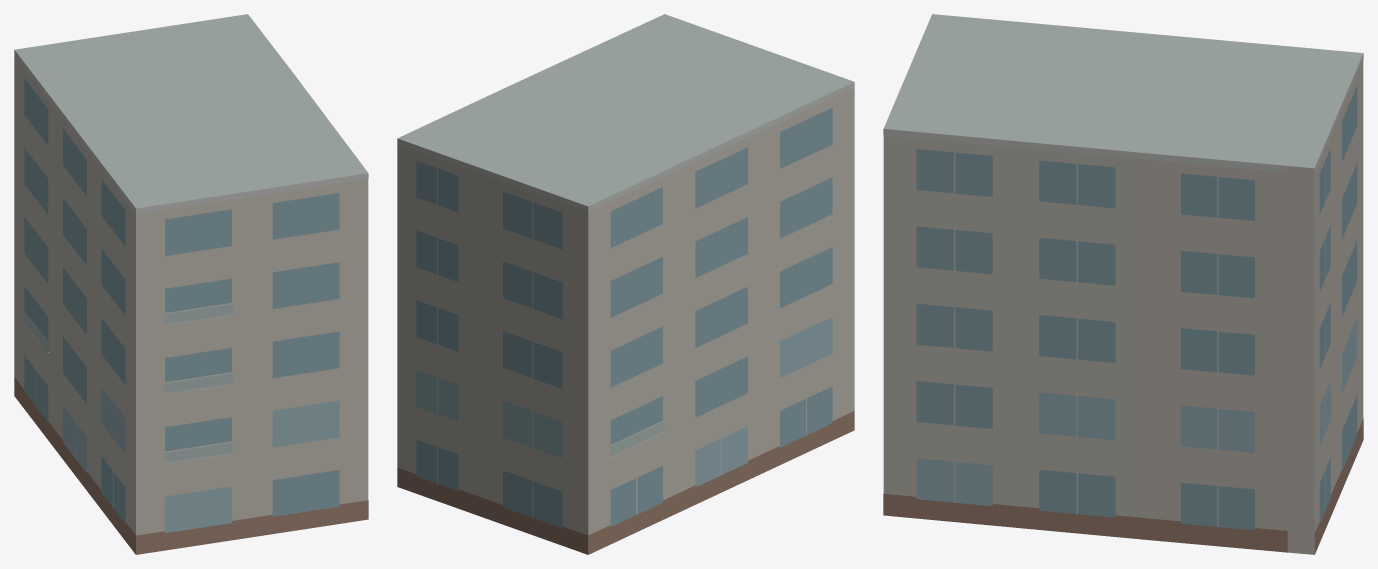
The model's file is survey-upis-32778305.glb.
3 views of the same model, side by side, from view 1: azimuth 30°, elevation 25°; view 2: azimuth 150°, elevation 25°; view 3: azimuth 270°, elevation 25° (orthographic). The views are drawn at different scales.
Visible parts, largest first — view 1: survey-upis-32778305.tmp; view 2: survey-upis-32778305.tmp; view 3: survey-upis-32778305.tmp.
Part boxes in pixels (bbox=[...]): survey-upis-32778305.tmp: bbox=[14, 14, 368, 554]; survey-upis-32778305.tmp: bbox=[397, 14, 854, 554]; survey-upis-32778305.tmp: bbox=[883, 14, 1363, 554].
Size of the model in its own units: 12.67 by 14.79 by 16.65.
